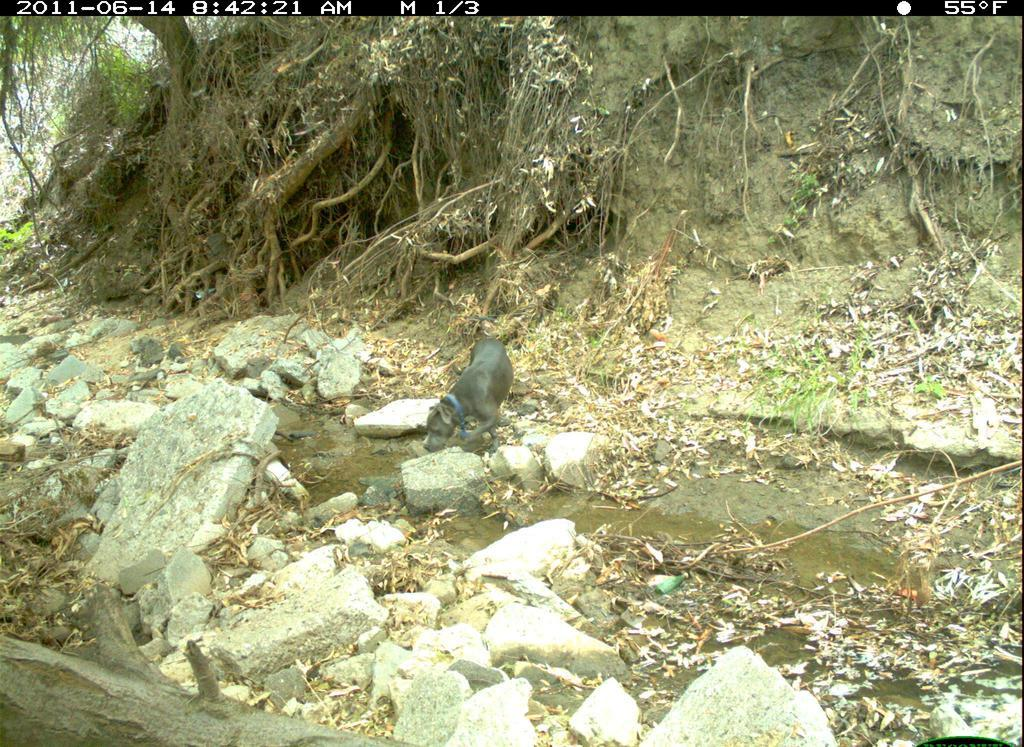dog: (418, 336, 536, 466)
